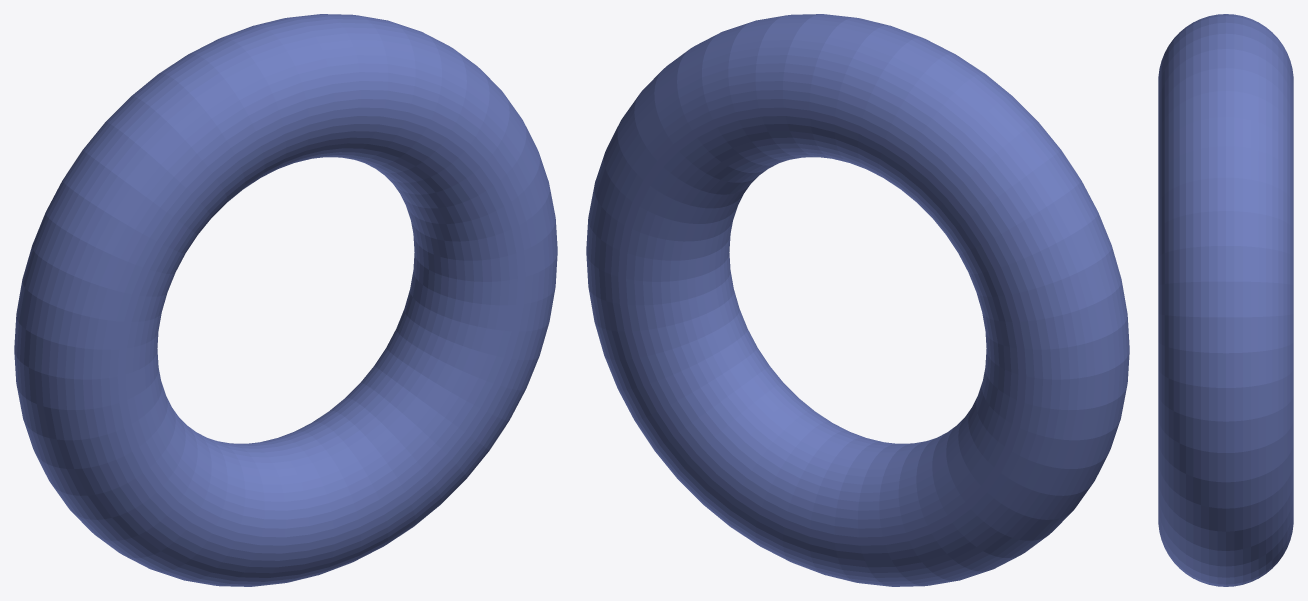
3 renders of one model, left to right at view 1: azimuth 30°, elevation 25°; view 2: azimuth 150°, elevation 25°; view 3: azimuth 270°, elevation 25°, orthographic. The views are drawn at different scales.
Parts seen in each view (by area): view 1: world; view 2: world; view 3: world.
Part boxes in pixels (x1=…): world: x1=14, y1=14, x2=557, y2=586; world: x1=586, y1=14, x2=1129, y2=586; world: x1=1158, y1=14, x2=1293, y2=586.
Size of the model in its own units: 17.47 by 17.43 by 4.13.
